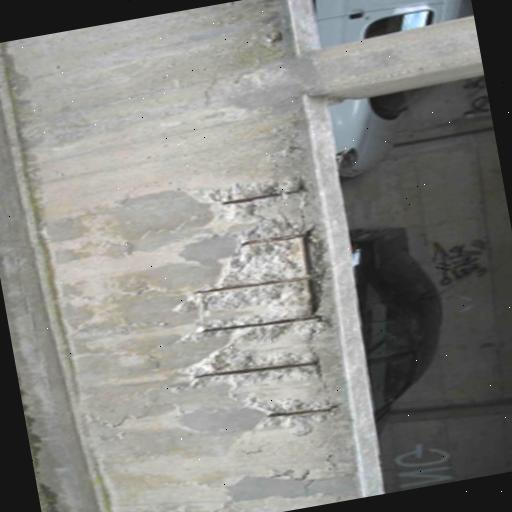spalling: (166, 150, 346, 446)
